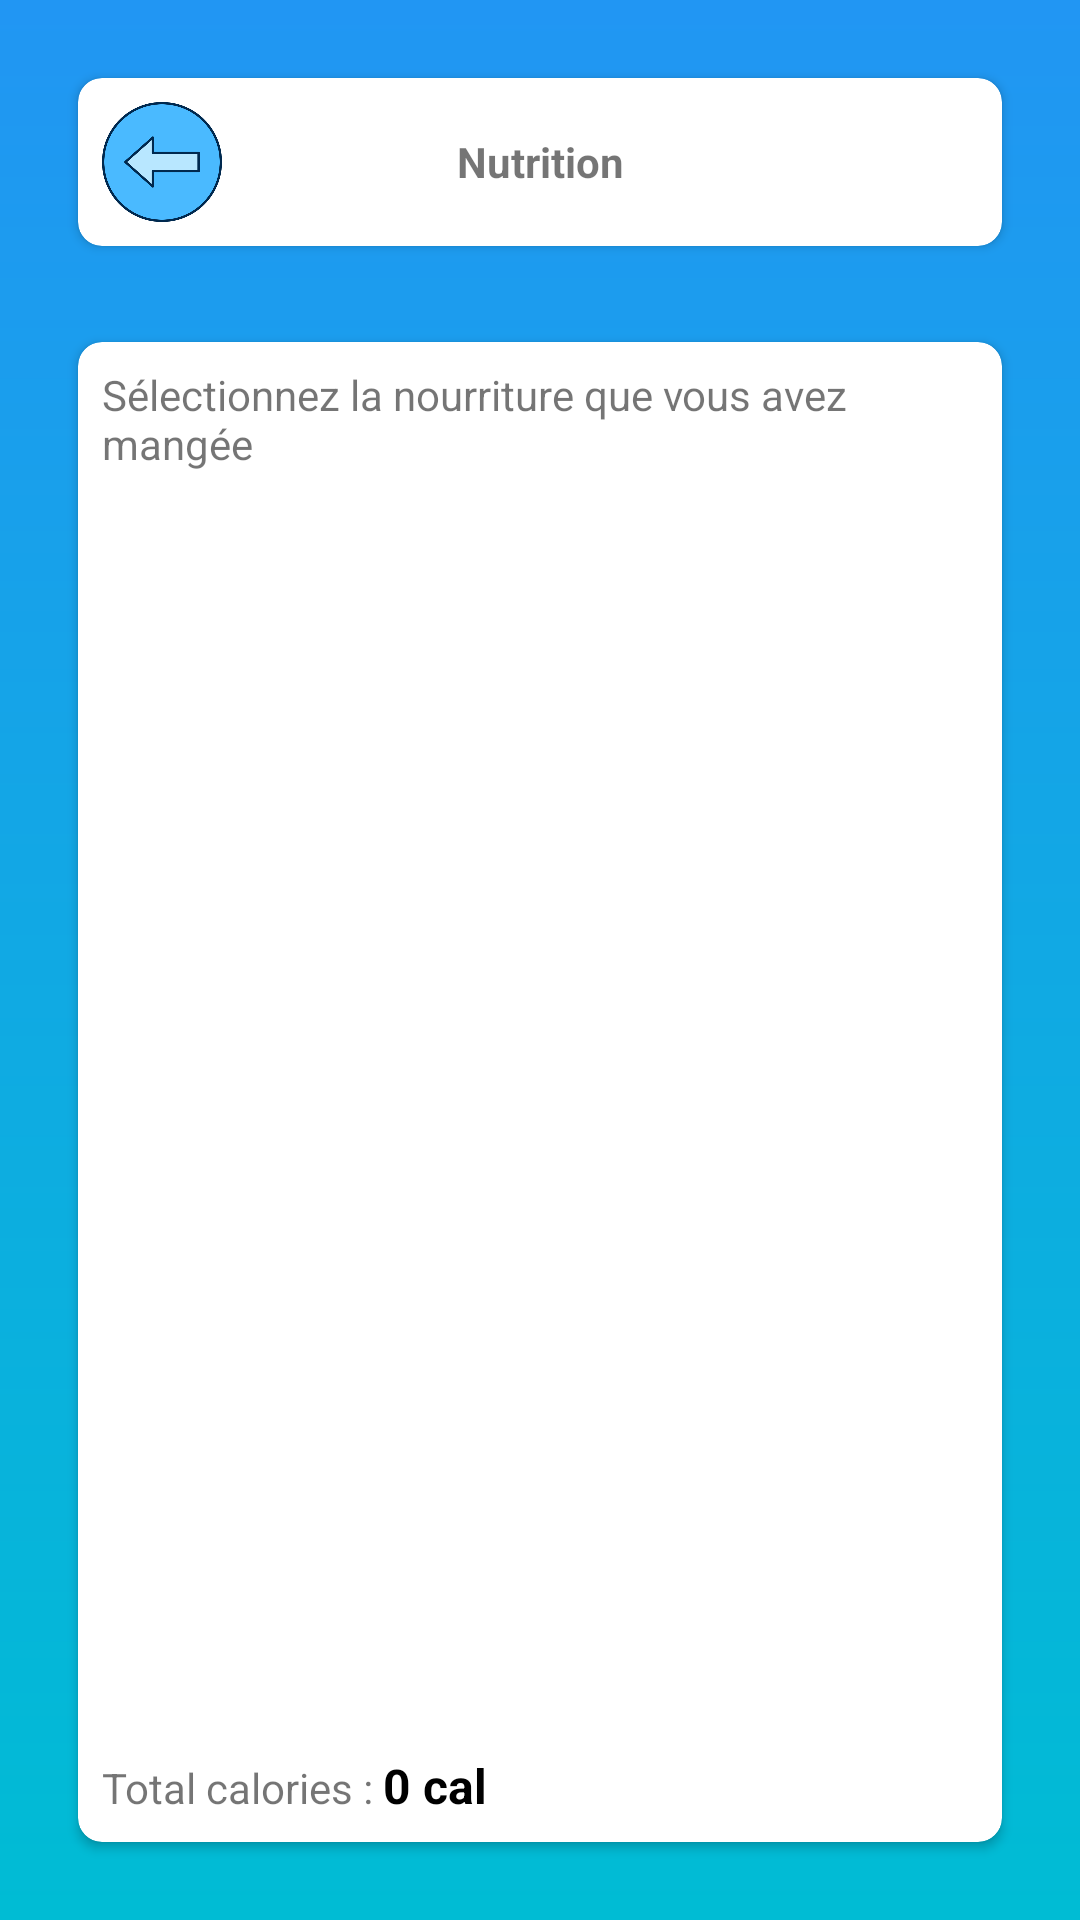

Where to tap for icons on this 1080w x 1920h app screen, as (x,y):
left arrow: (162,162)
